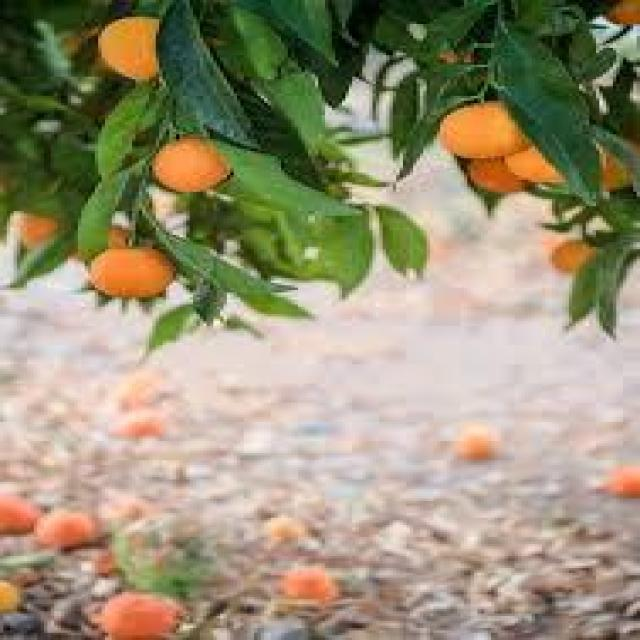fruit: (542, 218, 636, 274), (437, 101, 528, 158), (88, 245, 175, 299), (94, 592, 188, 640), (150, 136, 229, 193), (97, 15, 165, 80), (31, 508, 99, 550), (75, 227, 136, 271), (504, 145, 566, 183), (280, 565, 338, 603), (467, 156, 528, 192), (115, 368, 163, 406), (594, 145, 631, 189), (454, 426, 499, 462), (0, 494, 42, 532), (13, 213, 60, 245), (601, 462, 640, 497), (120, 408, 167, 434), (263, 516, 304, 542)
